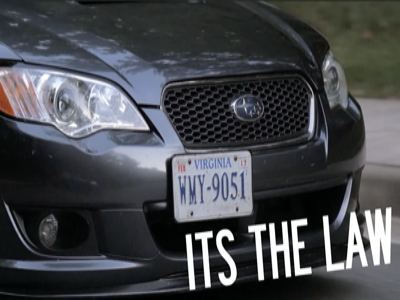licence: (170, 157, 252, 216)
